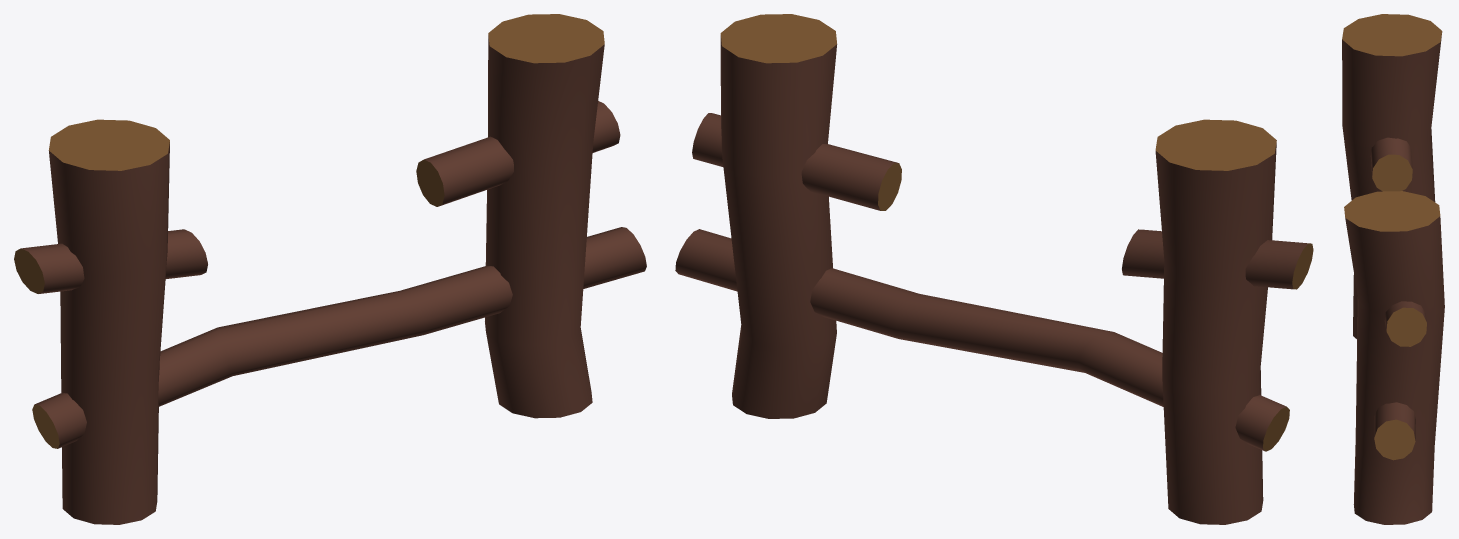
File: WoodRoundFence_Damaged4.fbx
3 renders of one model, left to right at view 1: azimuth 30°, elevation 25°; view 2: azimuth 150°, elevation 25°; view 3: azimuth 270°, elevation 25°, orthographic. The views are drawn at different scales.
Parts seen in each view (by area): view 1: WoodRoundFence_Damaged4; view 2: WoodRoundFence_Damaged4; view 3: WoodRoundFence_Damaged4.
Boxes of the visible parts, x1=… form: WoodRoundFence_Damaged4: x1=14, y1=14, x2=646, y2=524; WoodRoundFence_Damaged4: x1=675, y1=14, x2=1313, y2=524; WoodRoundFence_Damaged4: x1=1342, y1=14, x2=1444, y2=524.
Size of the model in its own units: 313 by 174 by 54.54.
